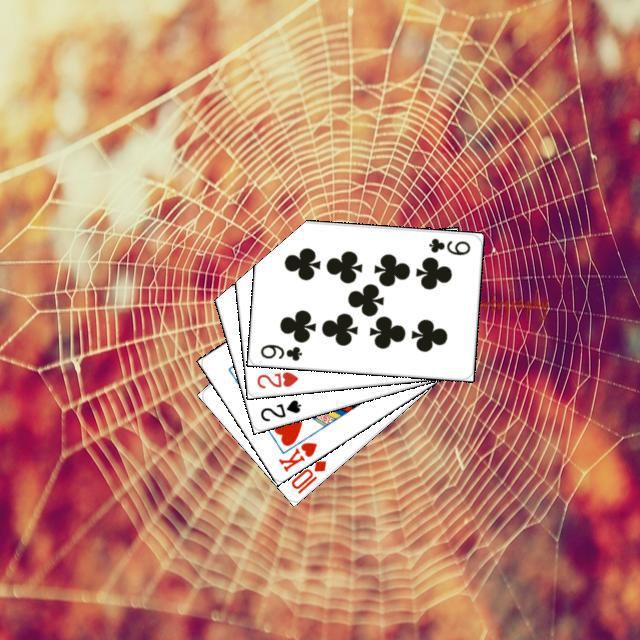10d: (286, 455, 328, 496)
2h: (252, 367, 300, 390)
2s: (255, 395, 303, 423)
9c: (424, 233, 472, 257), (256, 339, 303, 362)
Kh: (273, 427, 318, 473)
